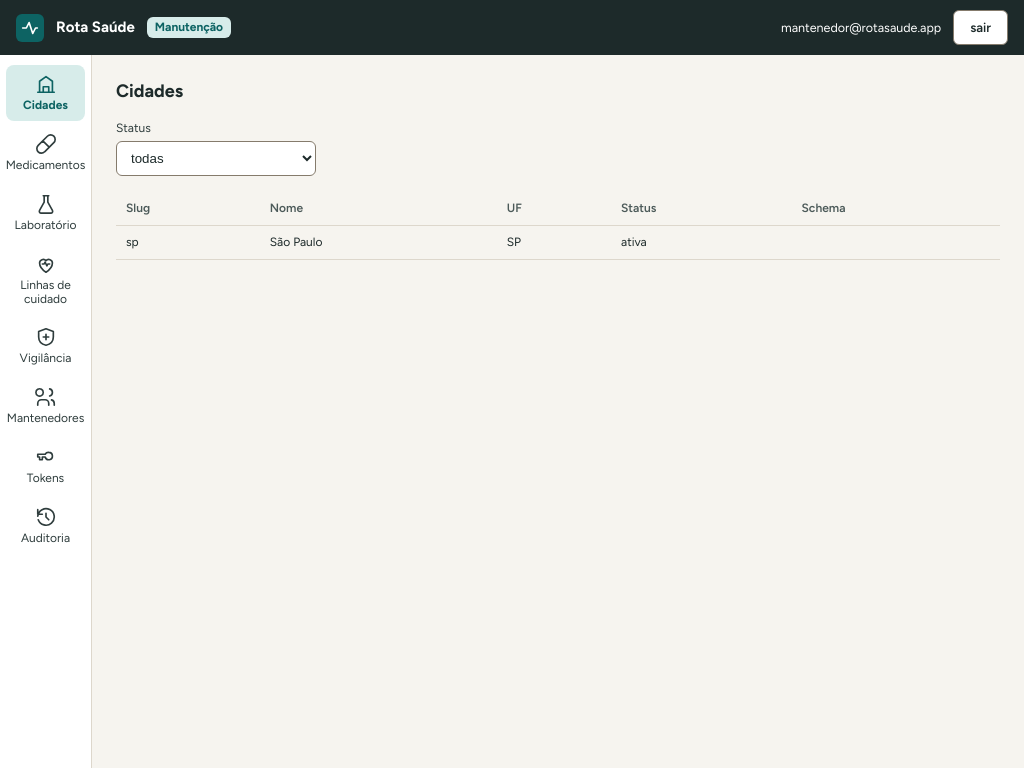
Shell › abrir uma cidade e voltar preserva a tela Cidades
This screenshot has width=1024, height=768.
Check: the text "mantenedor@rotasaude.app" is shown, box left=781, top=19, right=941, bottom=36
What coordinates should you click on to do the following:
click the text "São Paulo"
I would click on:
 (296, 242)
Its box is left=260, top=225, right=497, bottom=259.
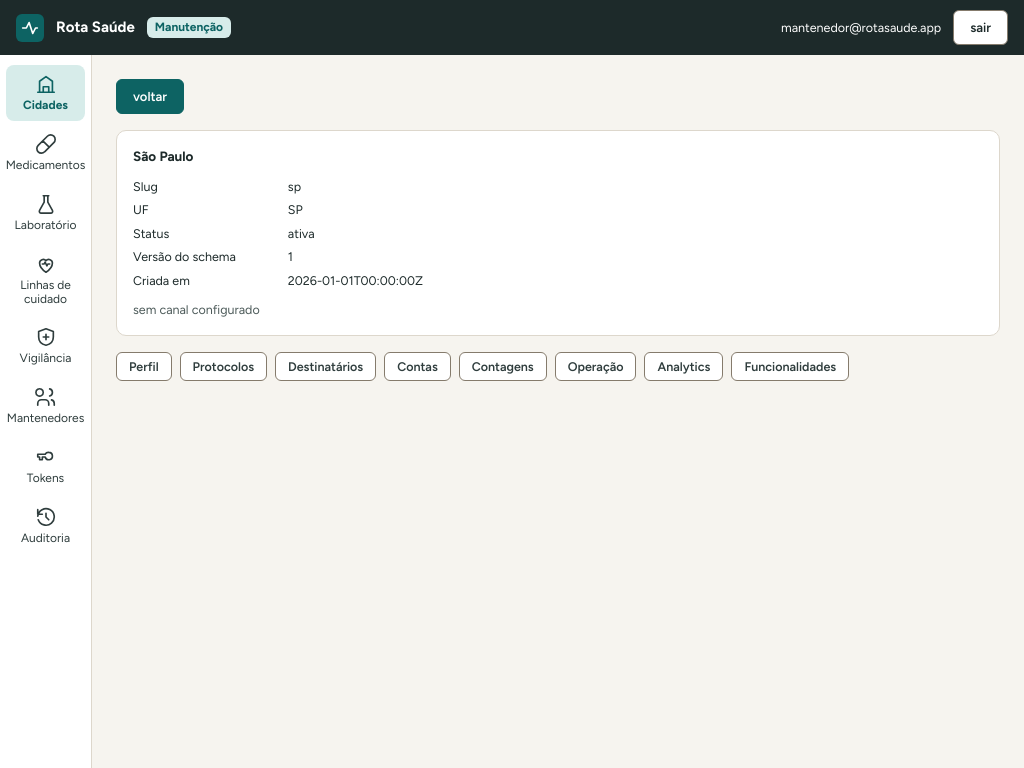
Check: the button "voltar" is shown
What coordinates should you click on to do the following:
click the button "voltar"
I would click on:
 (150, 96)
Its box is left=116, top=79, right=184, bottom=114.
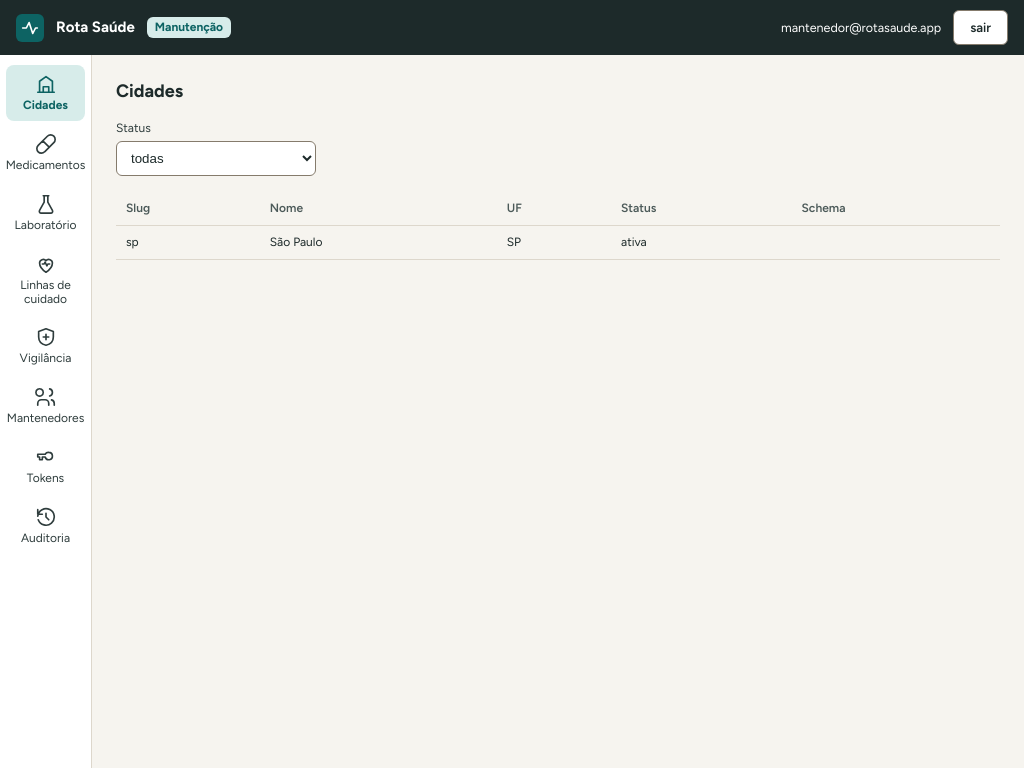
Check: the text "São Paulo" is shown, box left=260, top=225, right=497, bottom=259
Check: the button "voltar" is gone
